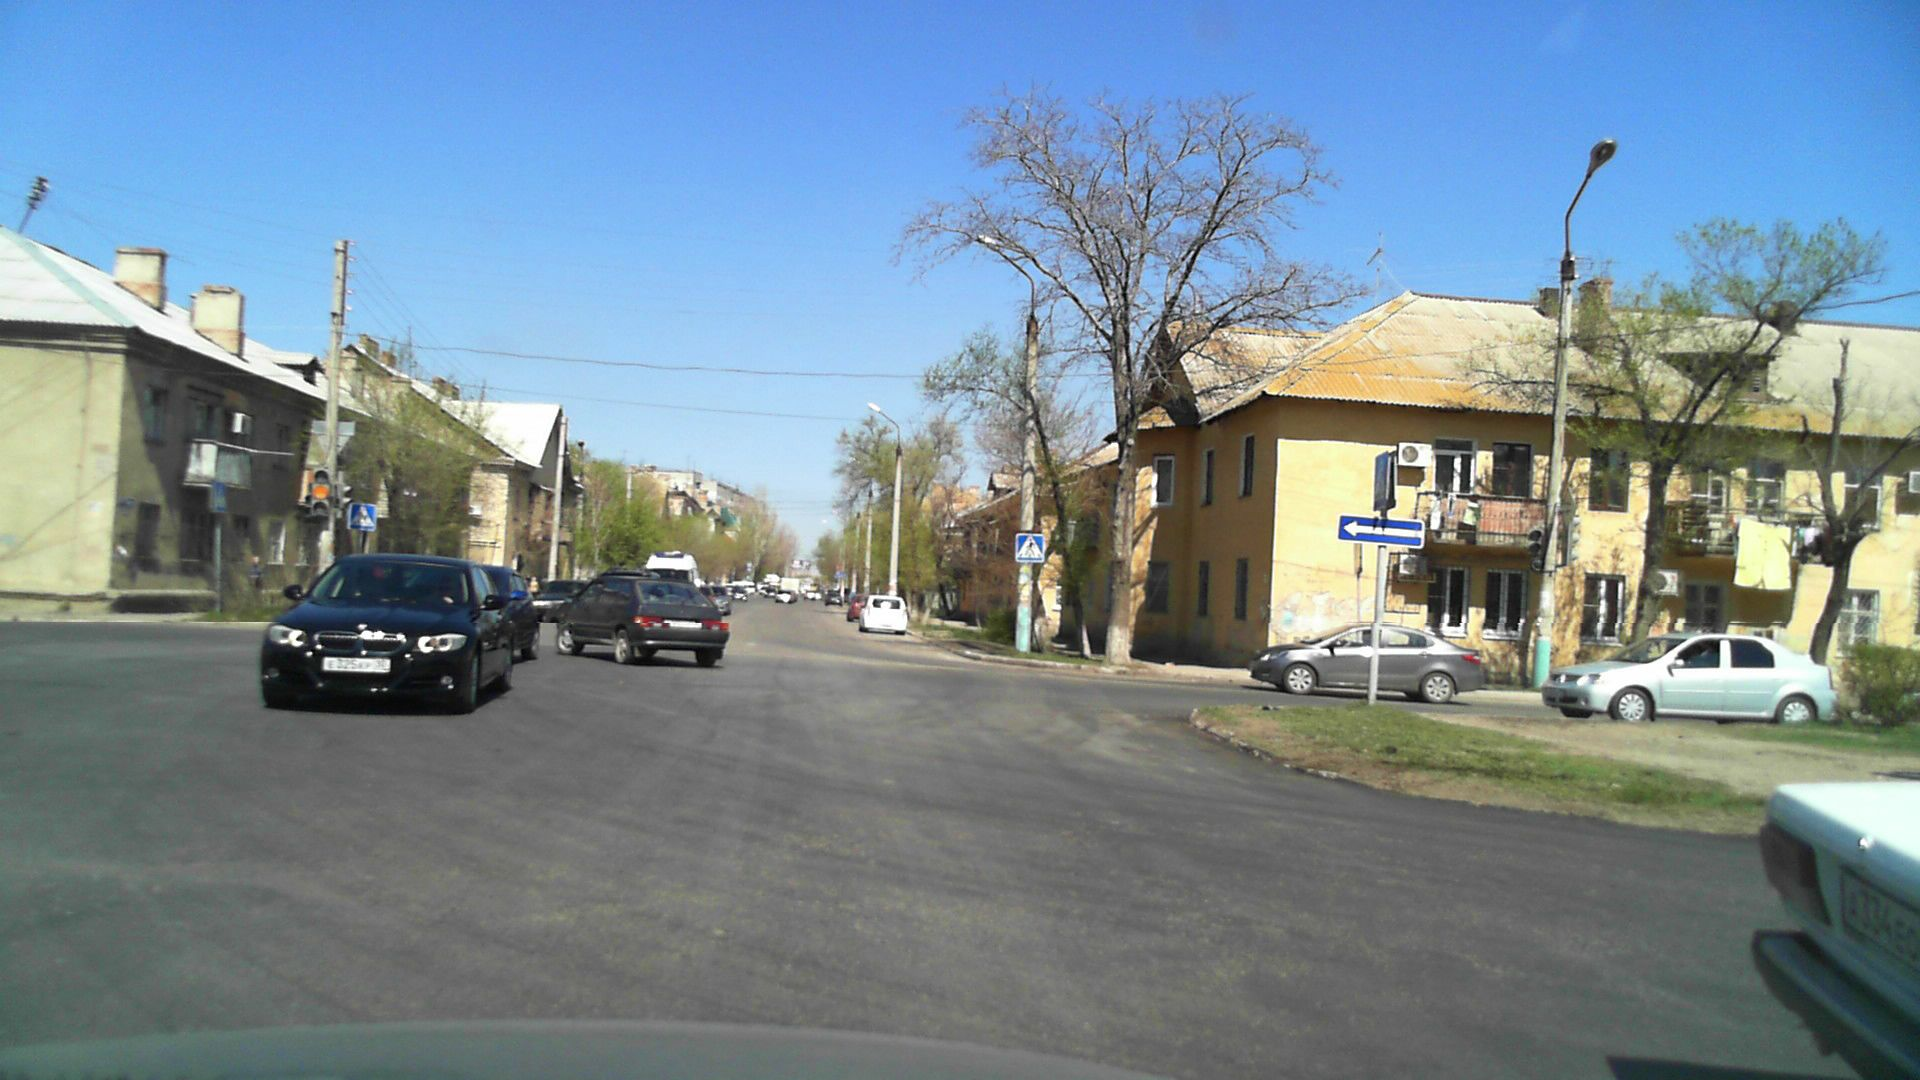One-Way Traffic: (1338, 517, 1424, 545)
